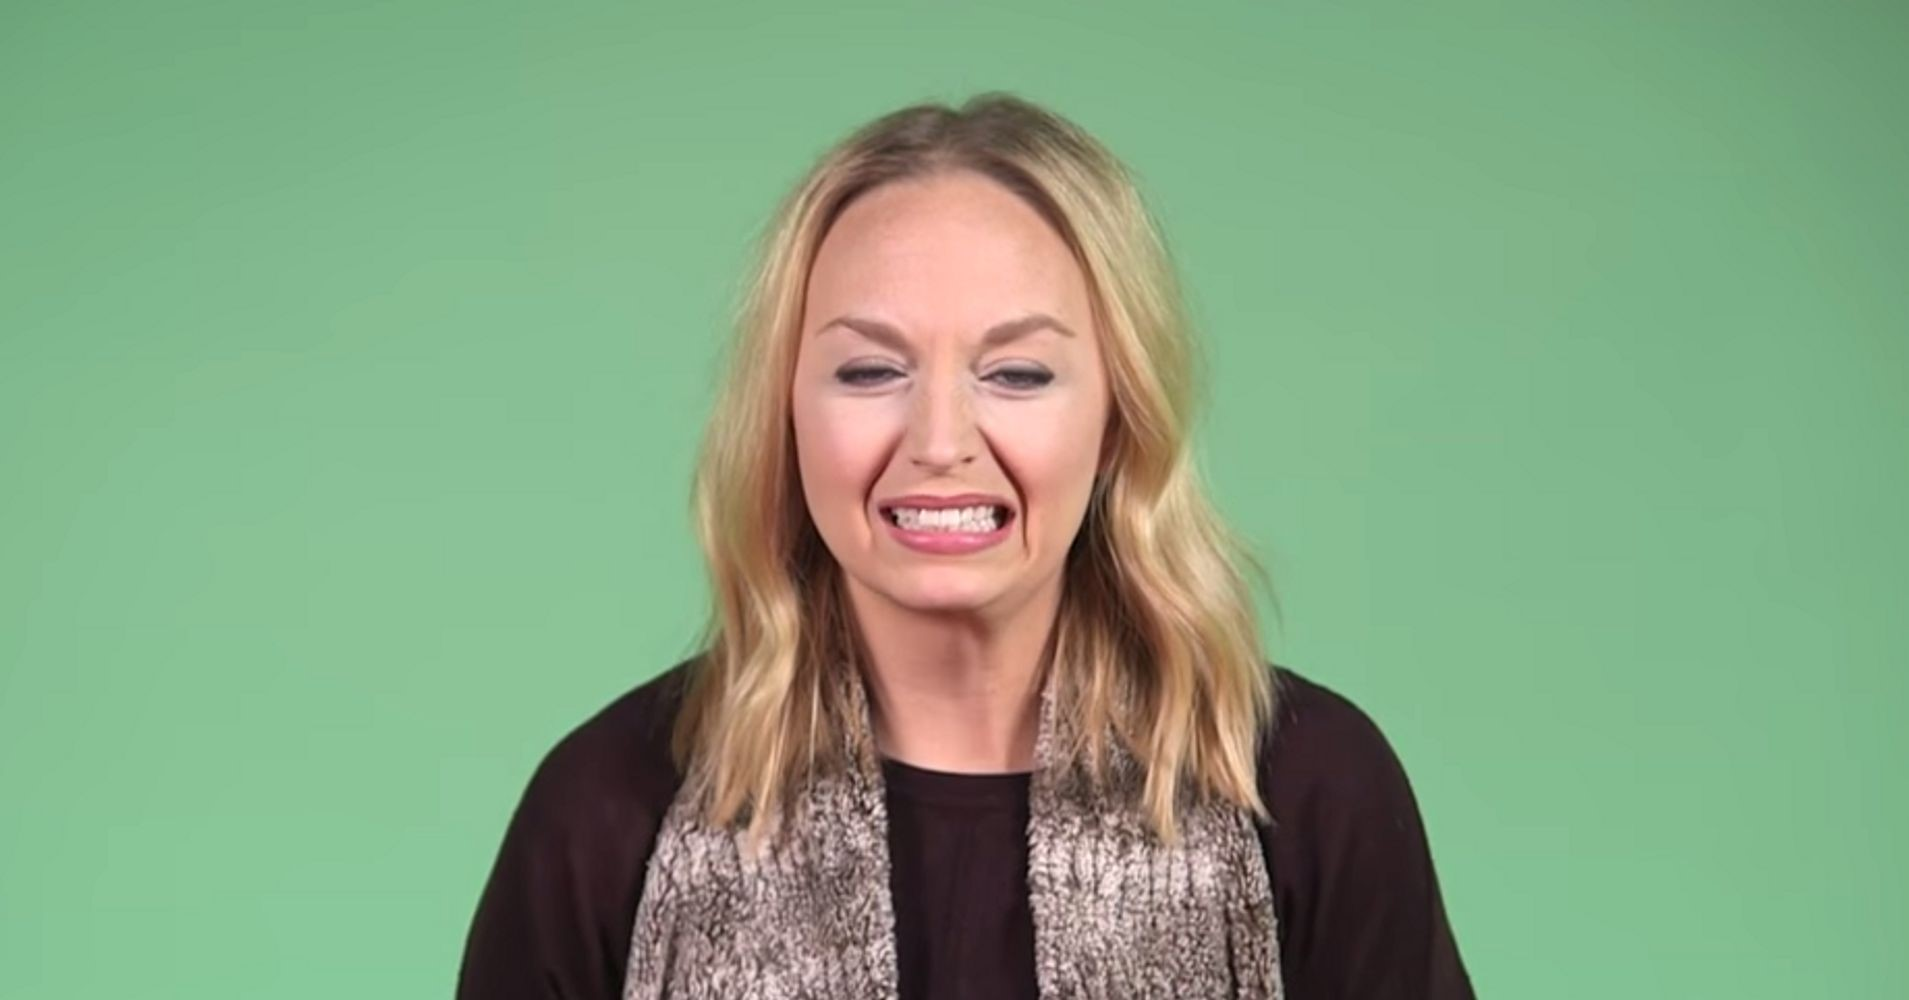face_no_mask: (746, 97, 1158, 612)
